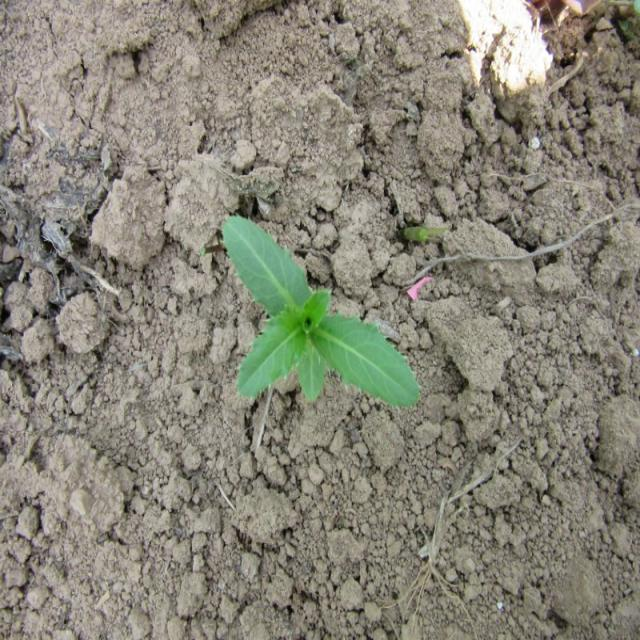field_thistle: (223, 237, 422, 440)
